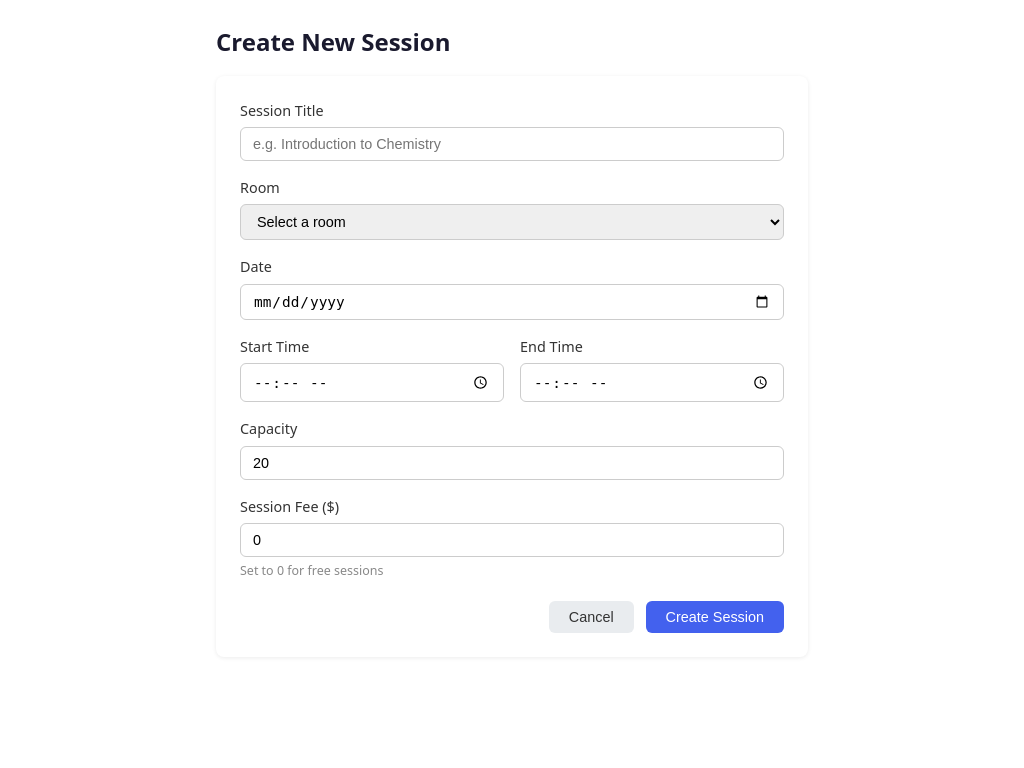
Scenario: SessionCreatePage — Conflict Modal › closes the modal when Cancel is clicked
This screenshot has width=1024, height=768.
Fill and submit
Type "X" into the field labelled "Session Title". click: [512, 144]
box: [240,127,784,161]
Type "2026-05-01" into the date field labelled "Date". click: [512, 302]
box: [240,284,784,320]
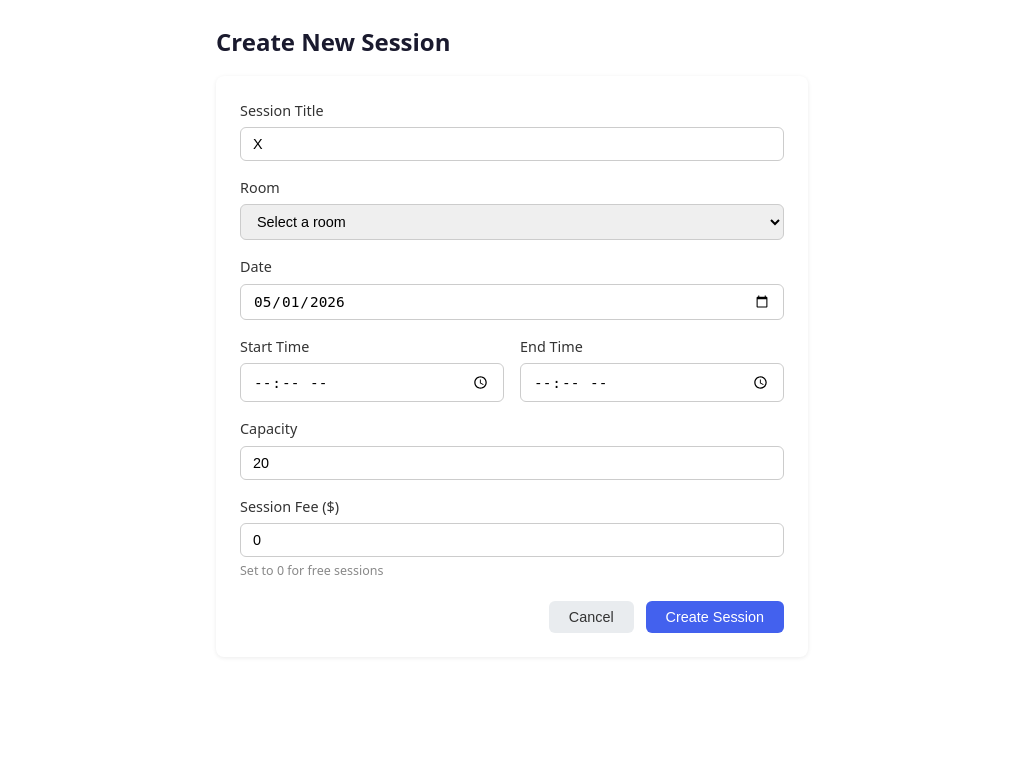
Type "09:00" into the time field labelled "Start Time". click: [372, 383]
box: [240,363,504,402]
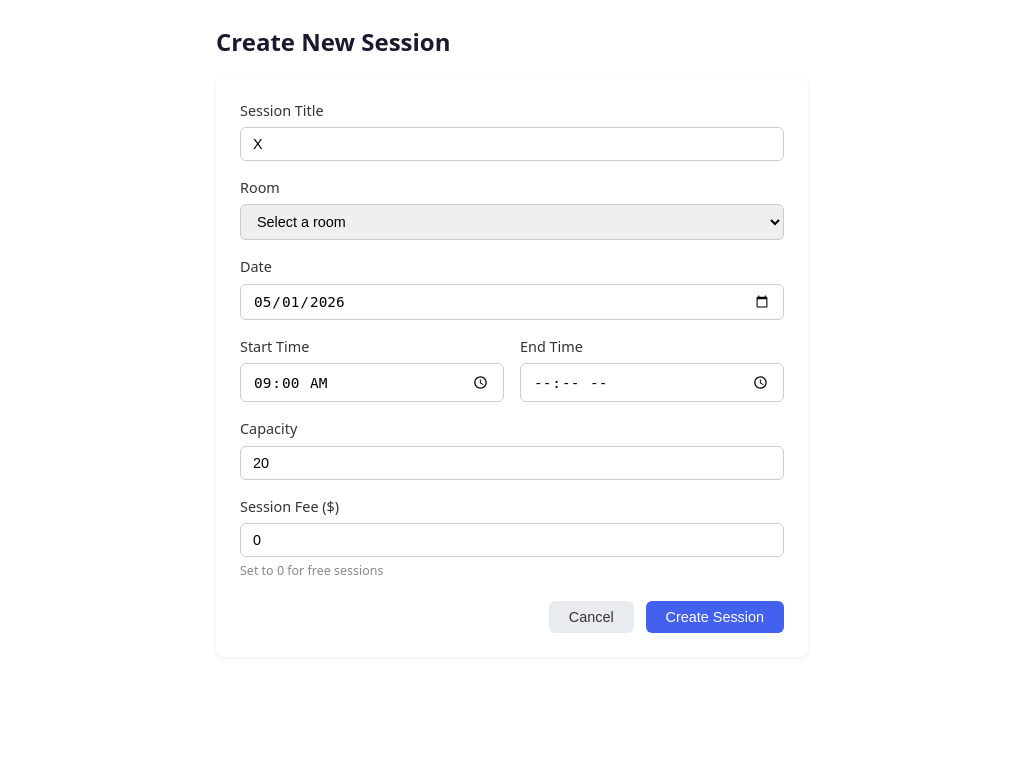
Type "11:00" into the time field labelled "End Time". click: [652, 383]
box: [520,363,784,402]
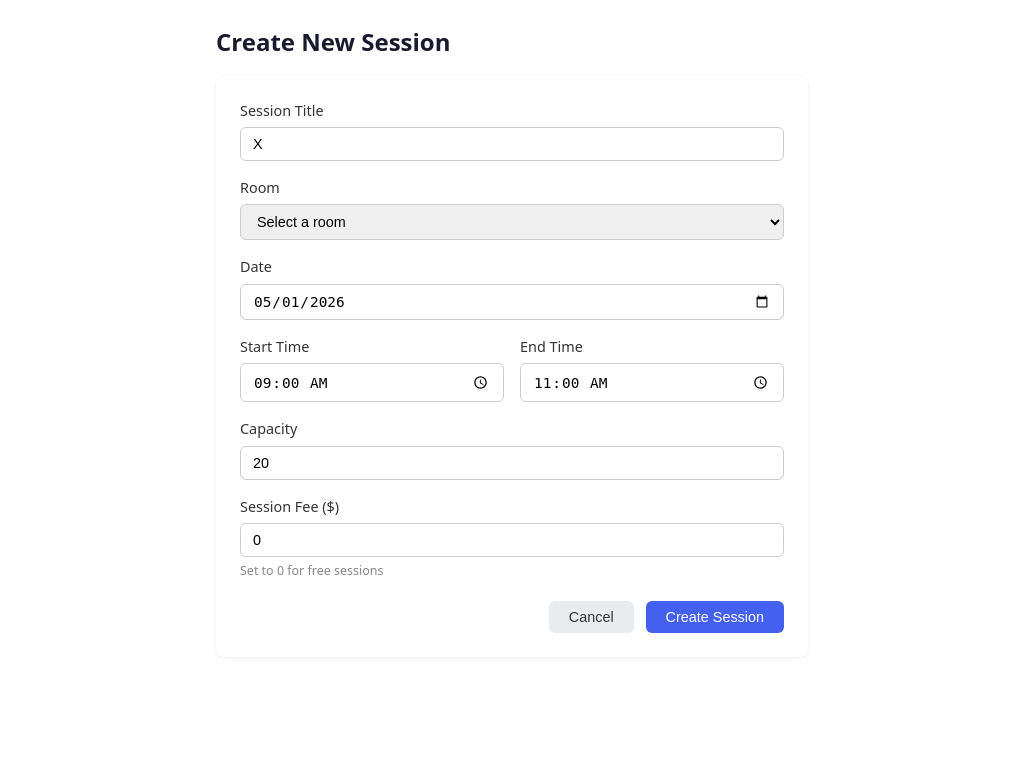
Select "Room Alpha (B1 - Floor F1, Cap: 30)" in the dropdown labelled "Room". click: [512, 222]
box: [240,204,784,240]
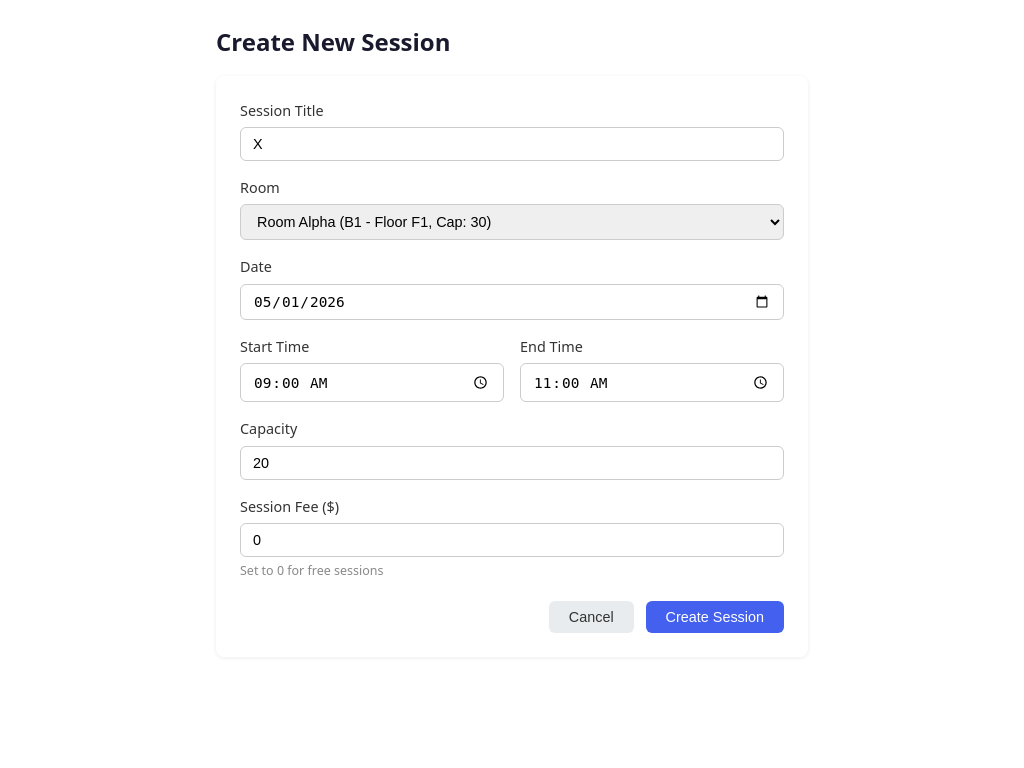
Click the button "Create Session". click: [715, 617]
box: [646,601,784,633]
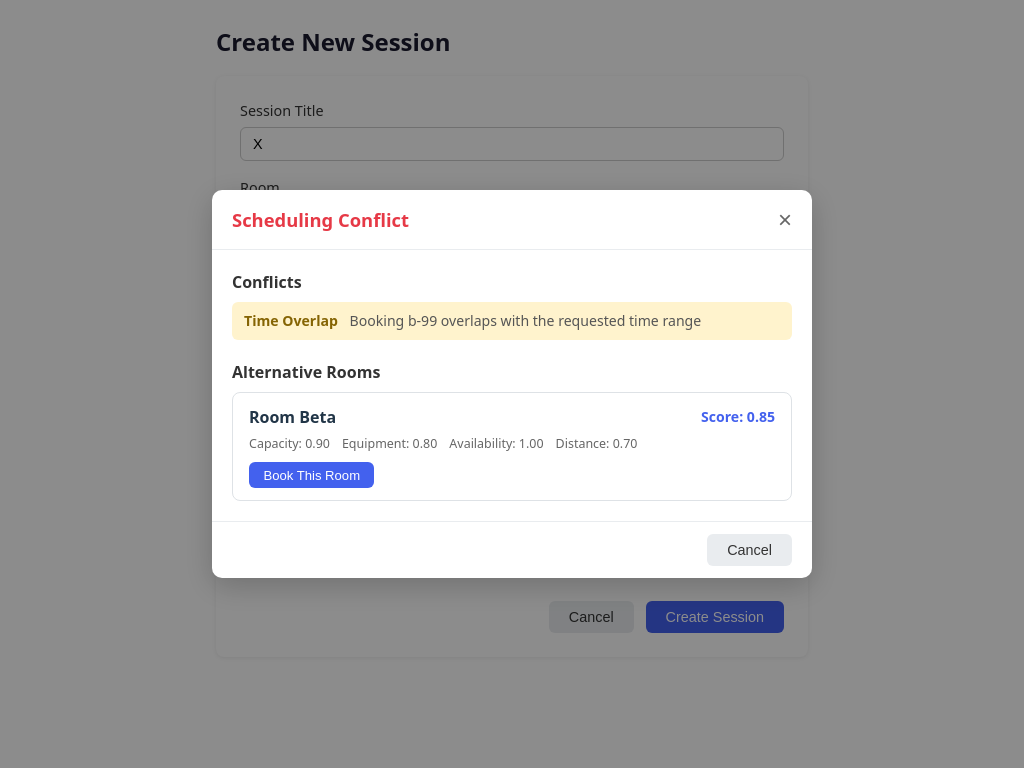
Expected: the heading "Scheduling Conflict" is shown, [232,206,409,233]
Click the modal's close button (×)
Click the button named "Close". click: [785, 220]
box: [778,208,792,232]
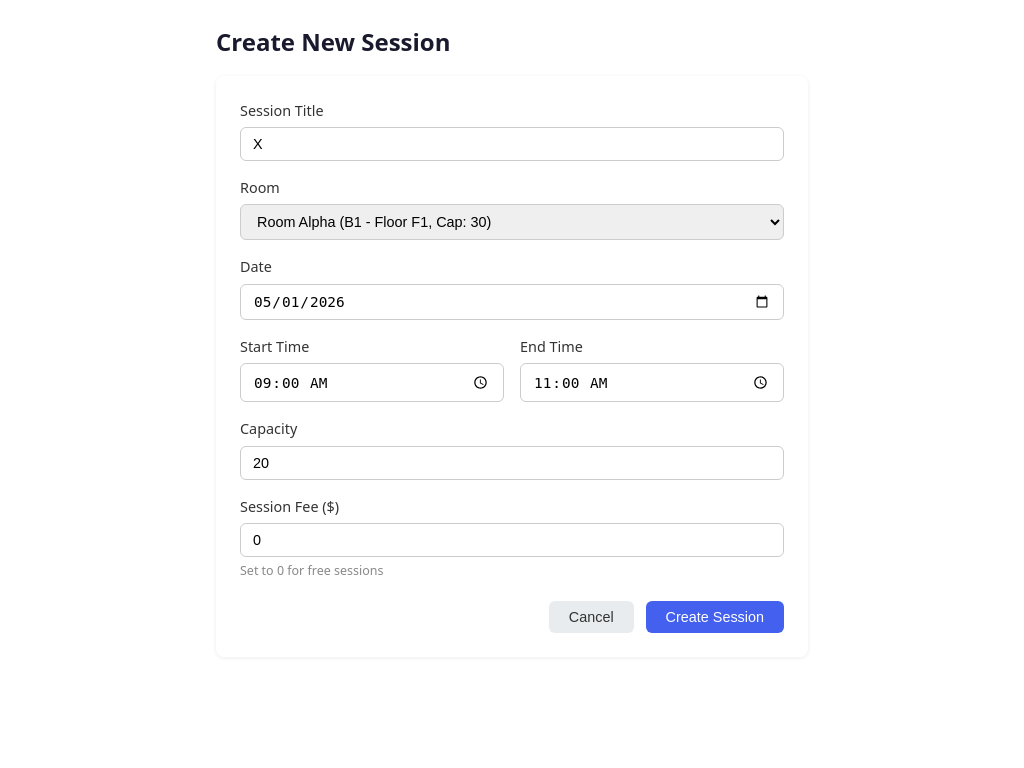
Expected: the heading "Scheduling Conflict" is gone
